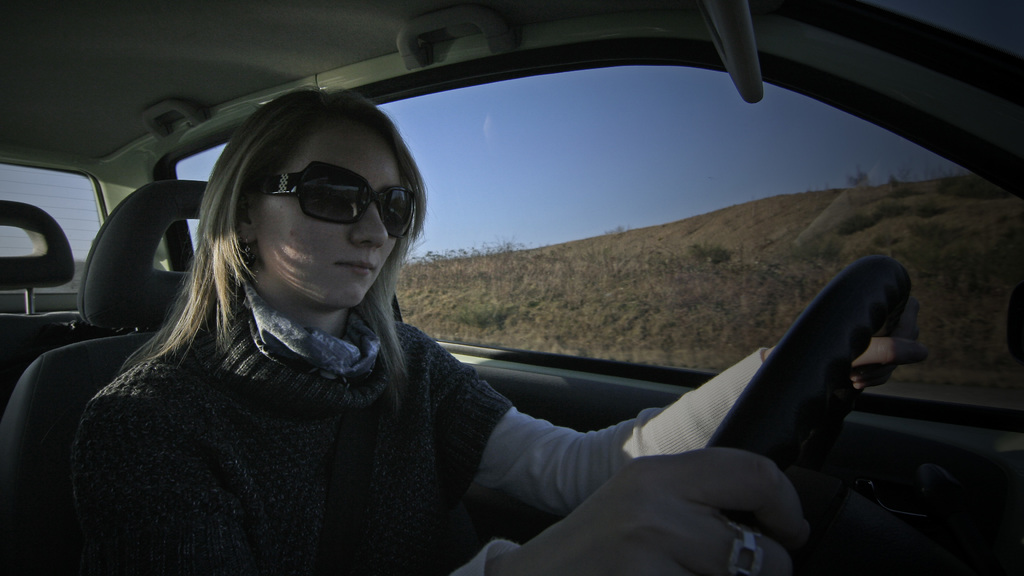Car: (0, 0, 1021, 572)
